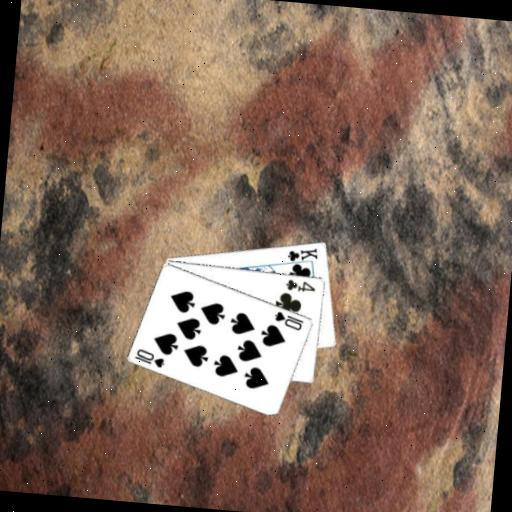10S: (270, 308, 306, 333), (132, 345, 169, 369)
4C: (283, 276, 318, 294)
KC: (283, 242, 320, 269)
